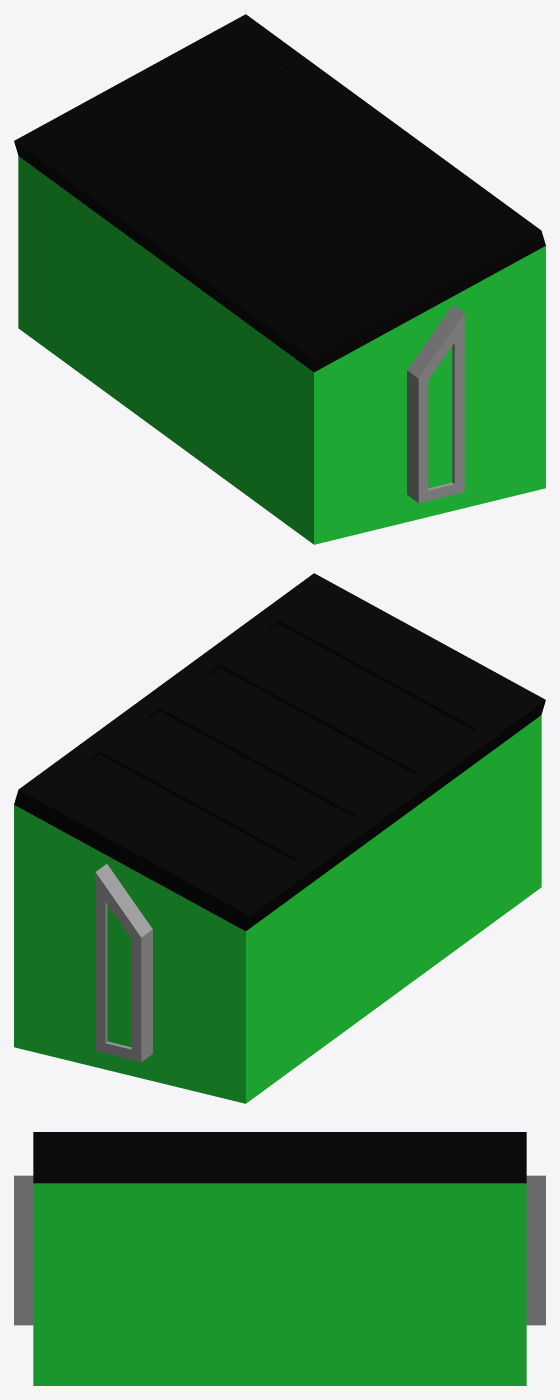
Rendered from Dumpster.fbx.
3 views of the same model, one above another, from view 1: azimuth 30°, elevation 25°; view 2: azimuth 150°, elevation 25°; view 3: azimuth 270°, elevation 25° (orthographic). The views are drawn at different scales.
Visible parts, largest first — view 1: Dumpster, Dumpster.001; view 2: Dumpster, Dumpster.001; view 3: Dumpster, Dumpster.001.
Part boxes in pixels (box(x1,y1,x2,y2)): Dumpster: box(18, 156, 545, 544); Dumpster.001: box(14, 14, 545, 372); Dumpster: box(14, 715, 541, 1103); Dumpster.001: box(14, 573, 545, 931); Dumpster: box(14, 1175, 545, 1385); Dumpster.001: box(33, 1132, 526, 1183).
Bounding box in the file's own units: 2.04 × 4.76 × 2.13.
